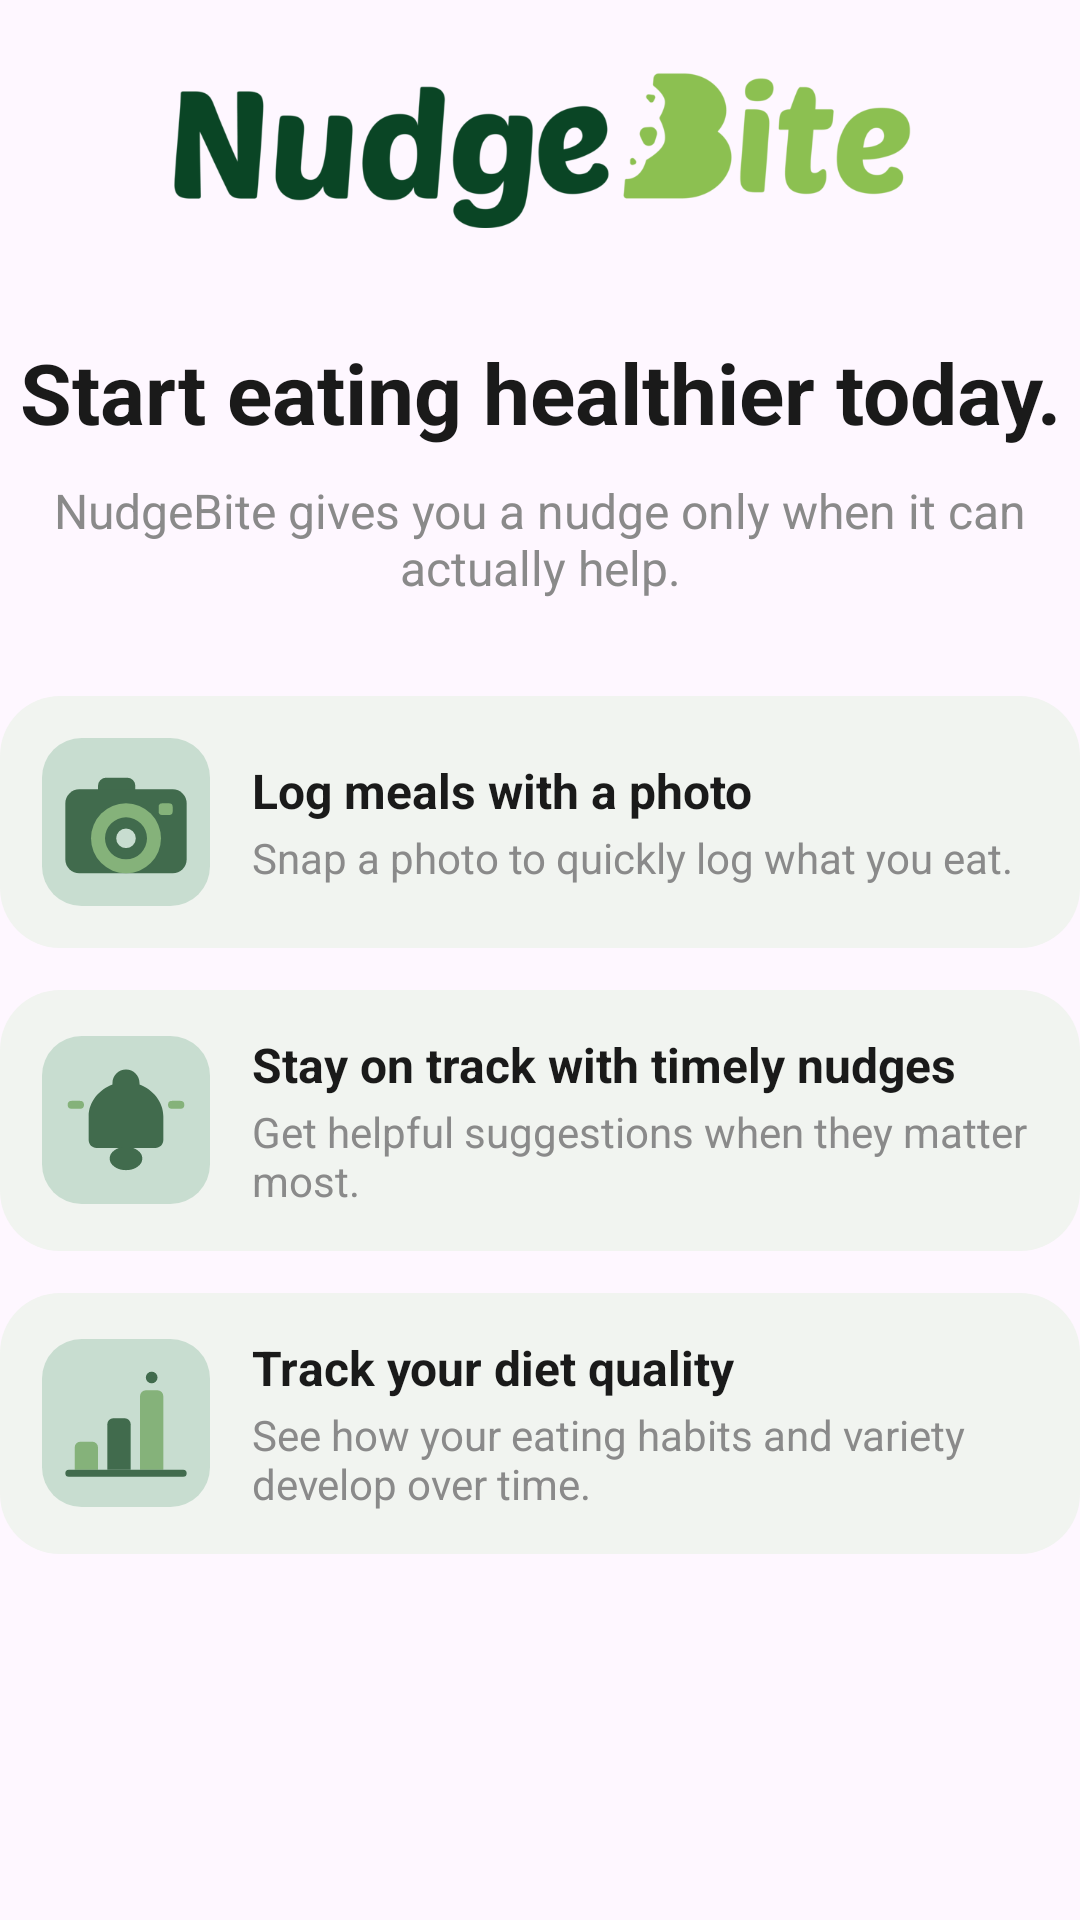

Named icons in this screenshot (1080w x 1920h) and their centers, (x,y):
A bar chart: (126,1423)
A camera: (126,822)
A notification bell: (126,1120)
